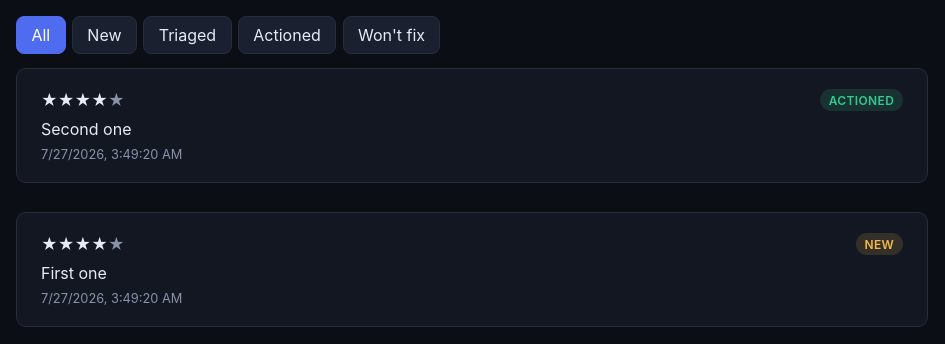
it: FeedbackList › filters the list by status
This screenshot has width=945, height=344.
Expected: the text "First one" is shown, [41,263,107,283]
Expected: the text "Second one" is shown, [41,119,132,139]
Click the button "Actioned" at (287, 35), box [238,16,336,54]
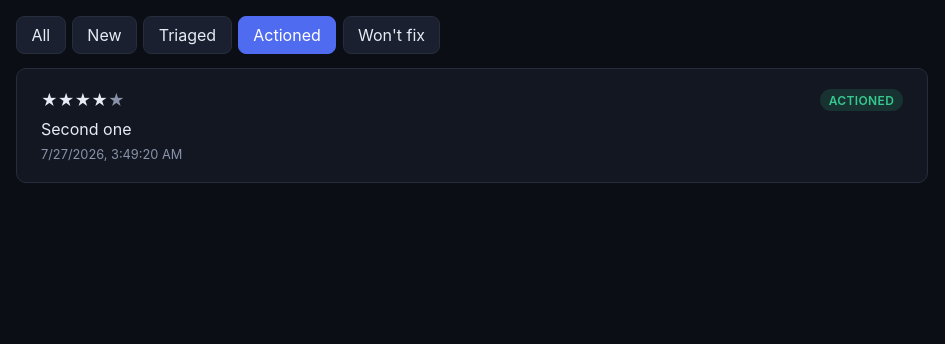
Expected: the text "Second one" is shown, [41,119,132,139]
Expected: the text "First one" is gone
